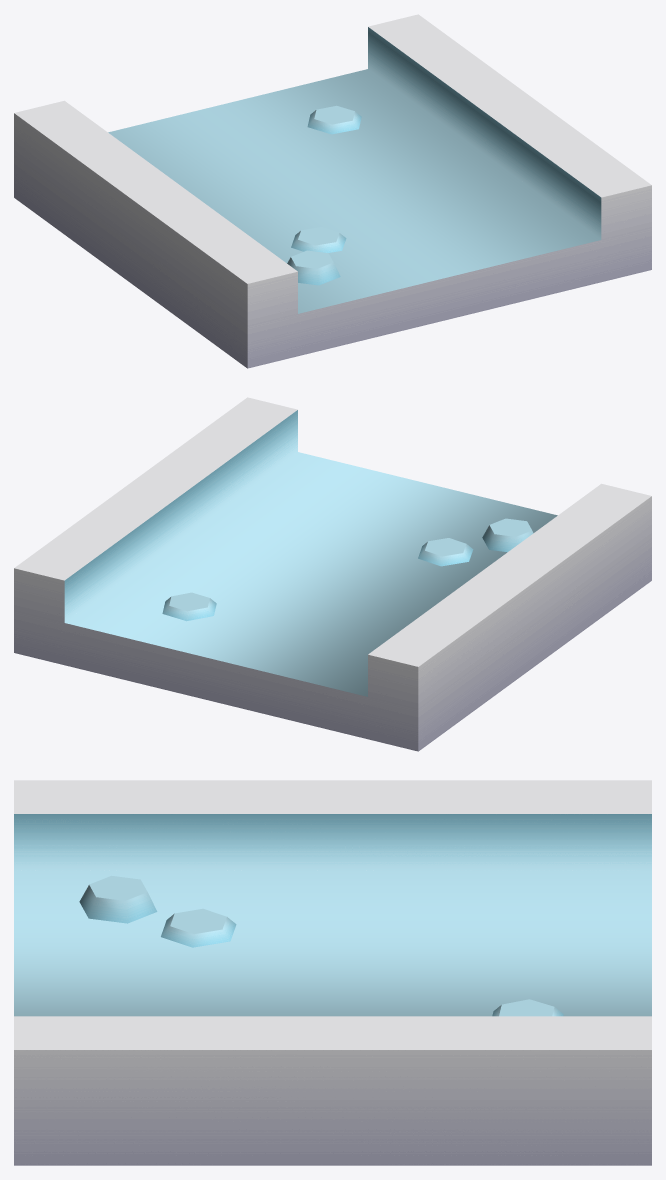
Rendered from tower-defense-kit--snow-tile-straight.glb.
3 views of the same model, one above another, from view 1: azimuth 30°, elevation 25°; view 2: azimuth 150°, elevation 25°; view 3: azimuth 270°, elevation 25° (orthographic). The views are drawn at different scales.
Parts seen in each view (by area): view 1: snow-tile-straight; view 2: snow-tile-straight; view 3: snow-tile-straight.
Boxes of the visible parts, bbox=[...] form: snow-tile-straight: bbox=[14, 14, 651, 368]; snow-tile-straight: bbox=[14, 397, 651, 751]; snow-tile-straight: bbox=[14, 780, 651, 1165].
Size of the model in its own units: 1 by 0.2 by 1.
1 material, 1 textured.
